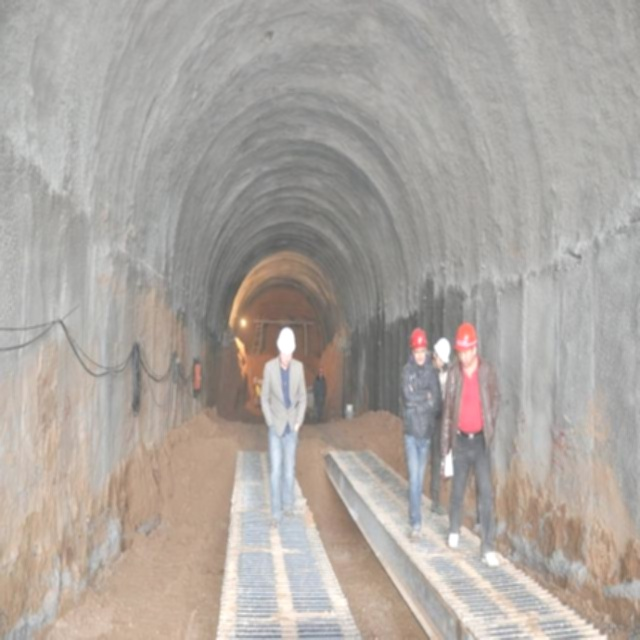Con_Casco: (277, 326, 296, 368)
